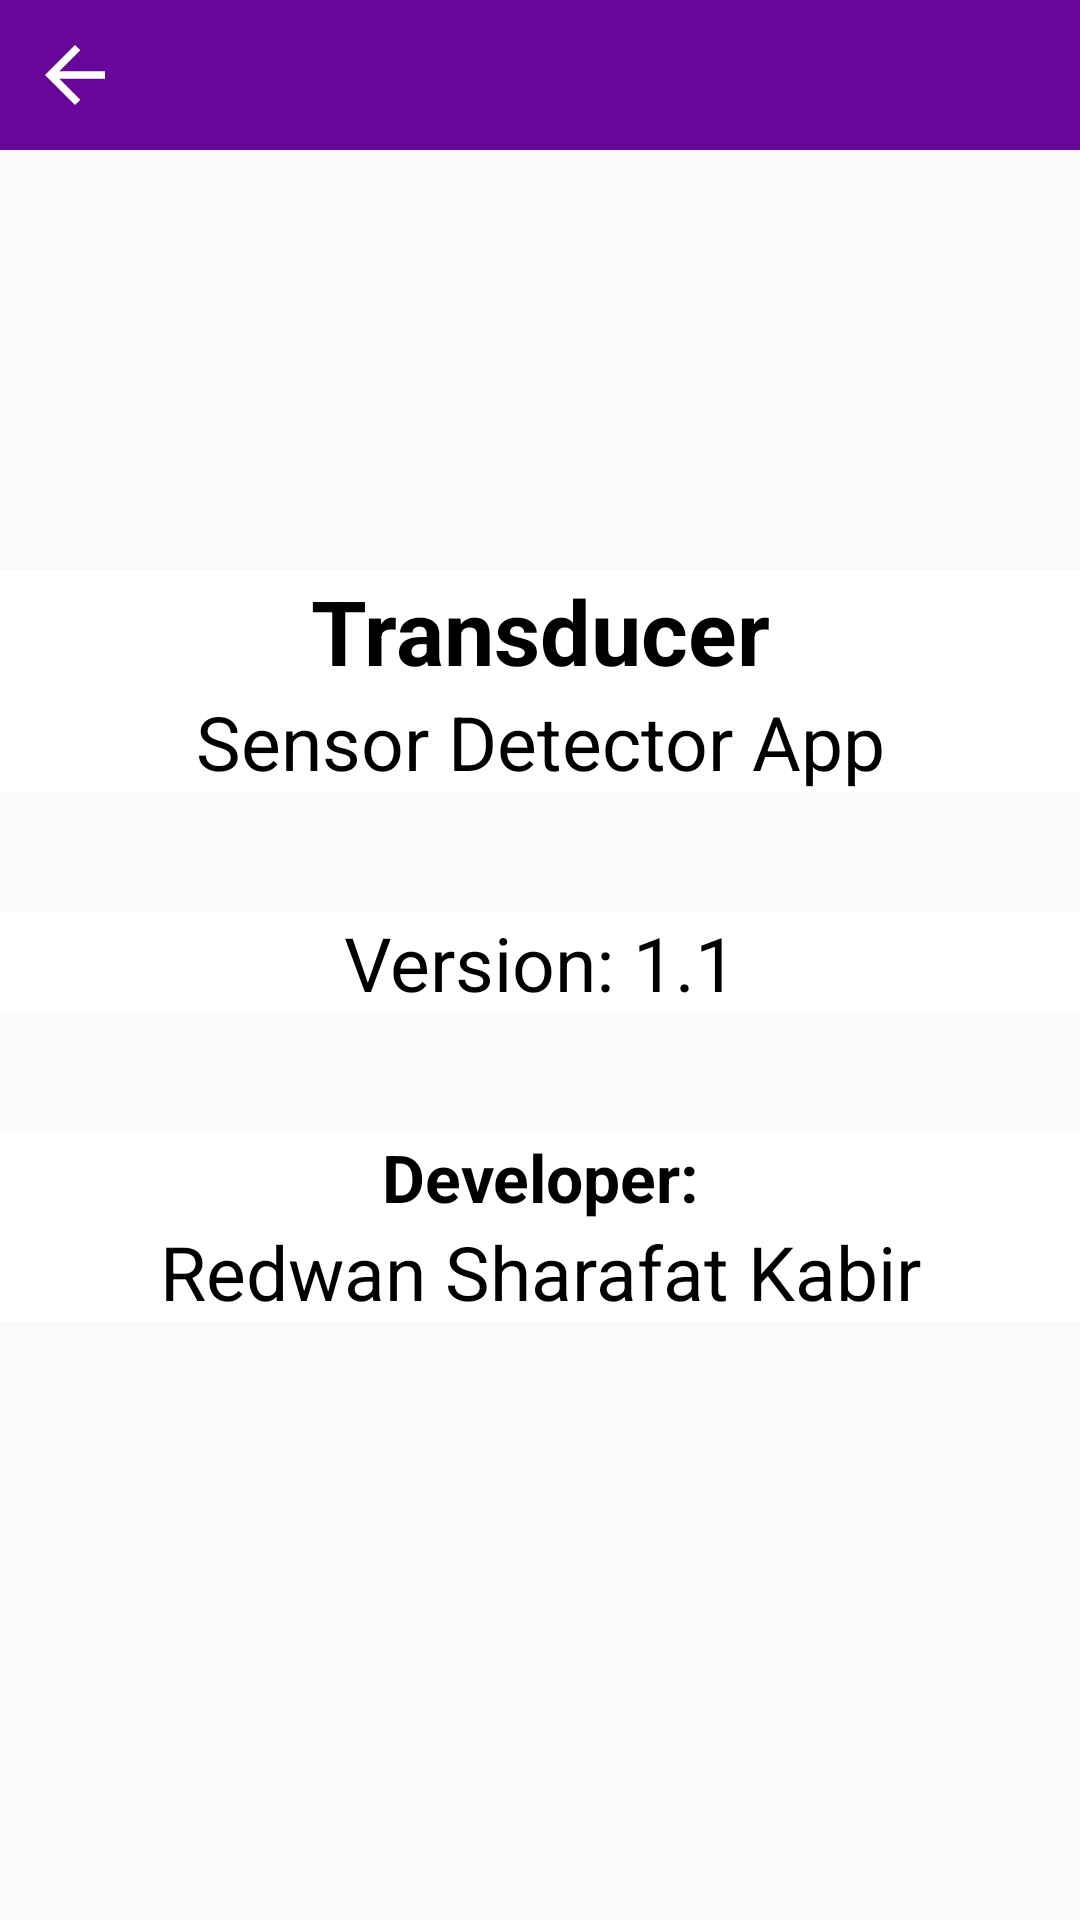

Icons on this 1080px×1920px Android screen, each with the point to tap as (x,y):
arrow back: (75,75)
